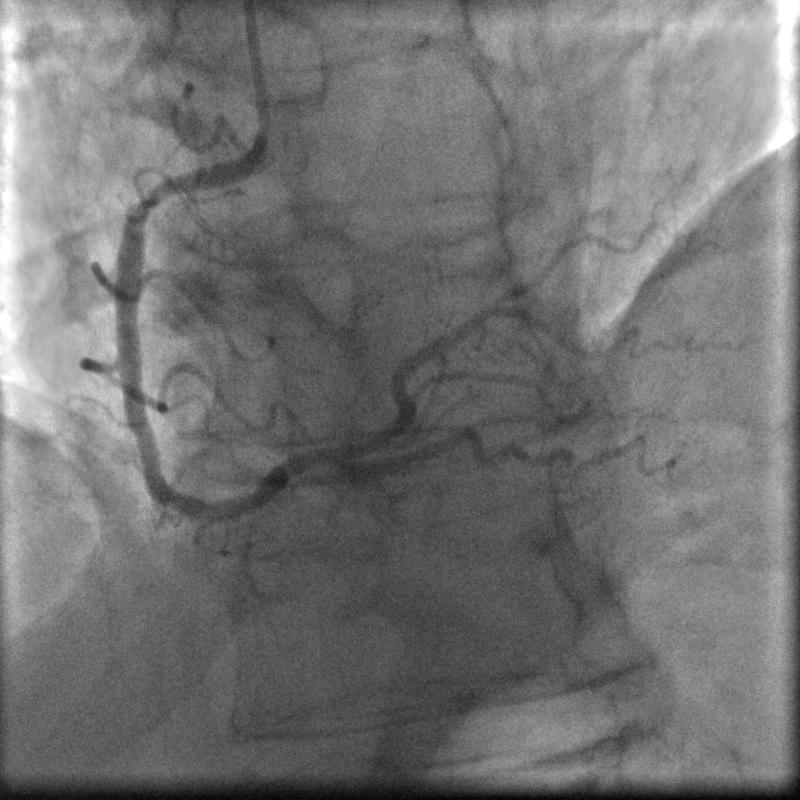Stenosis: (123, 183, 167, 220)
